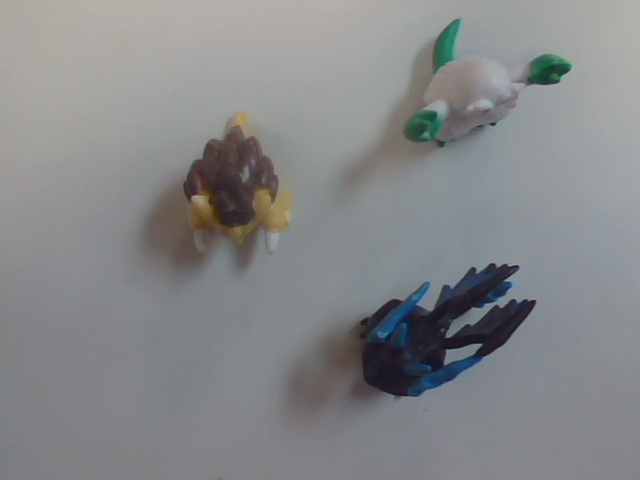abomasnow: (372, 10, 584, 209)
charizard: (336, 257, 556, 466)
sandslash: (139, 92, 321, 287)
